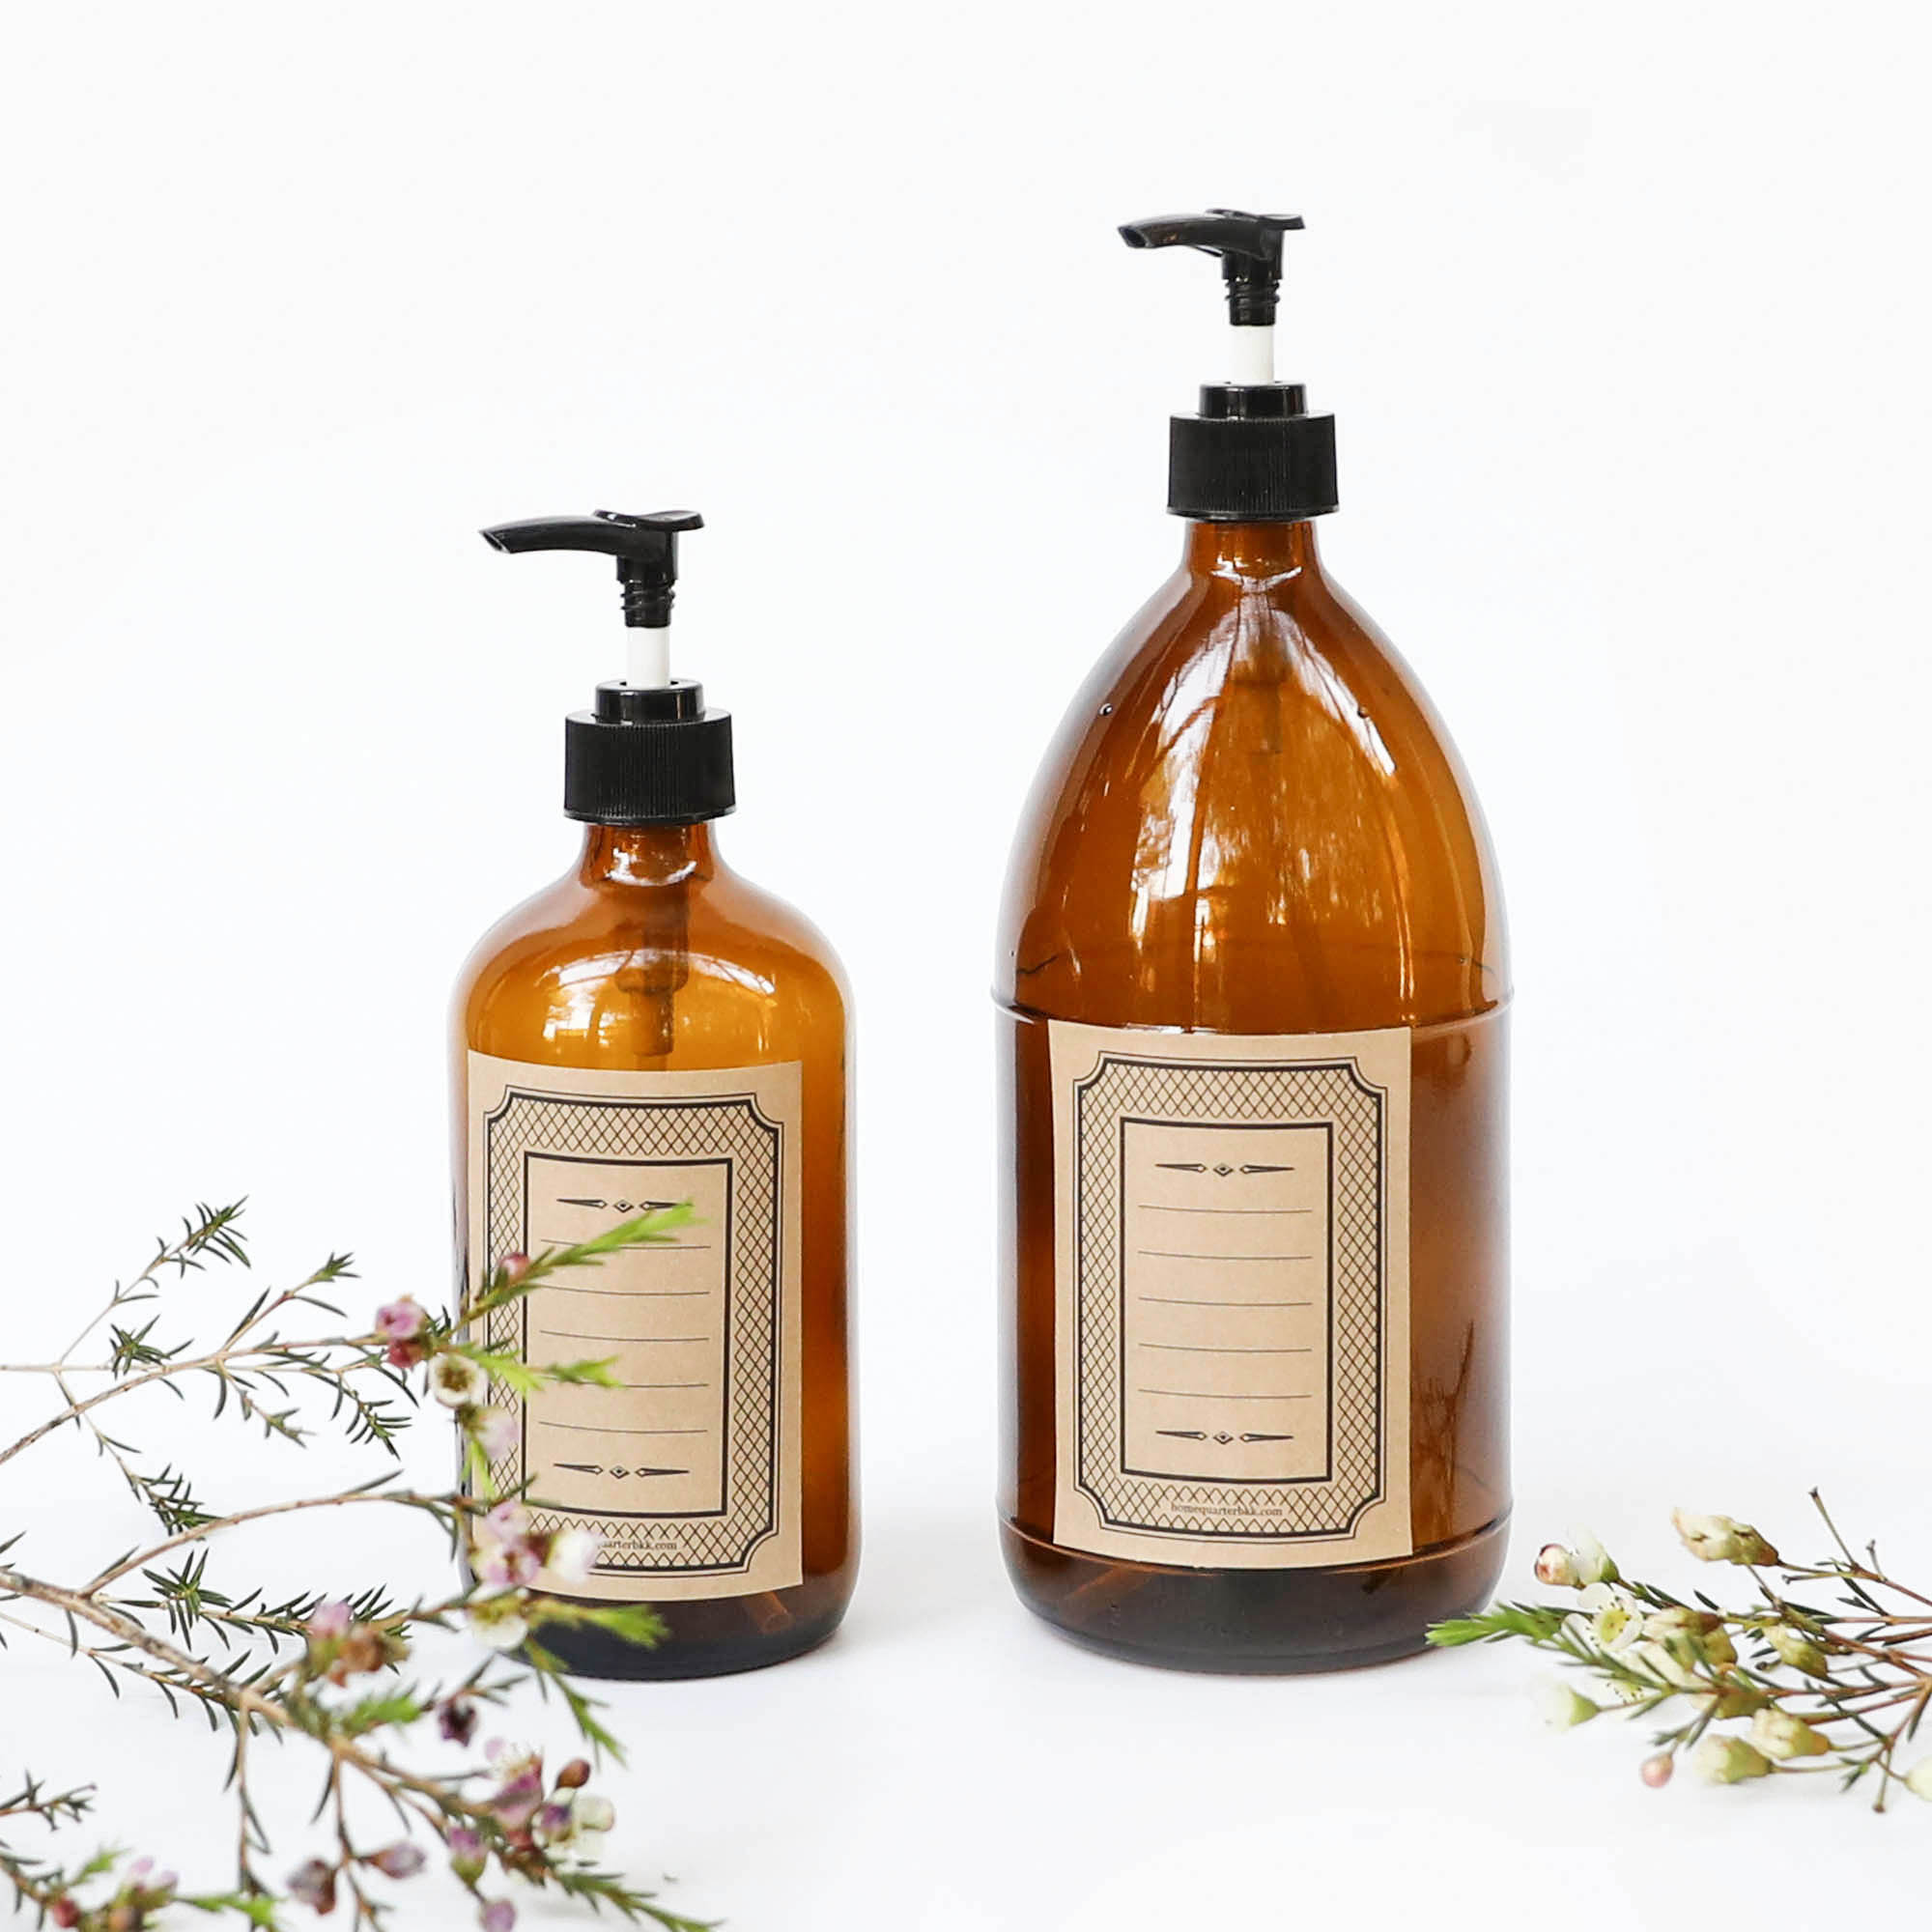glass_bottle: (978, 184, 1550, 1686), (410, 460, 893, 1695)
